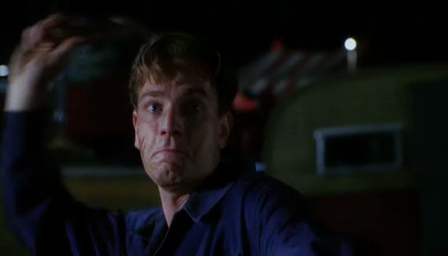cu: (1, 1, 448, 256)
face: (137, 74, 215, 188)
person: (1, 13, 345, 256)
